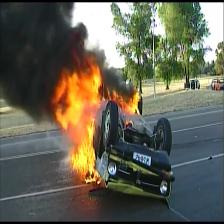fire: (48, 58, 147, 190)
smoke: (2, 3, 91, 121)
